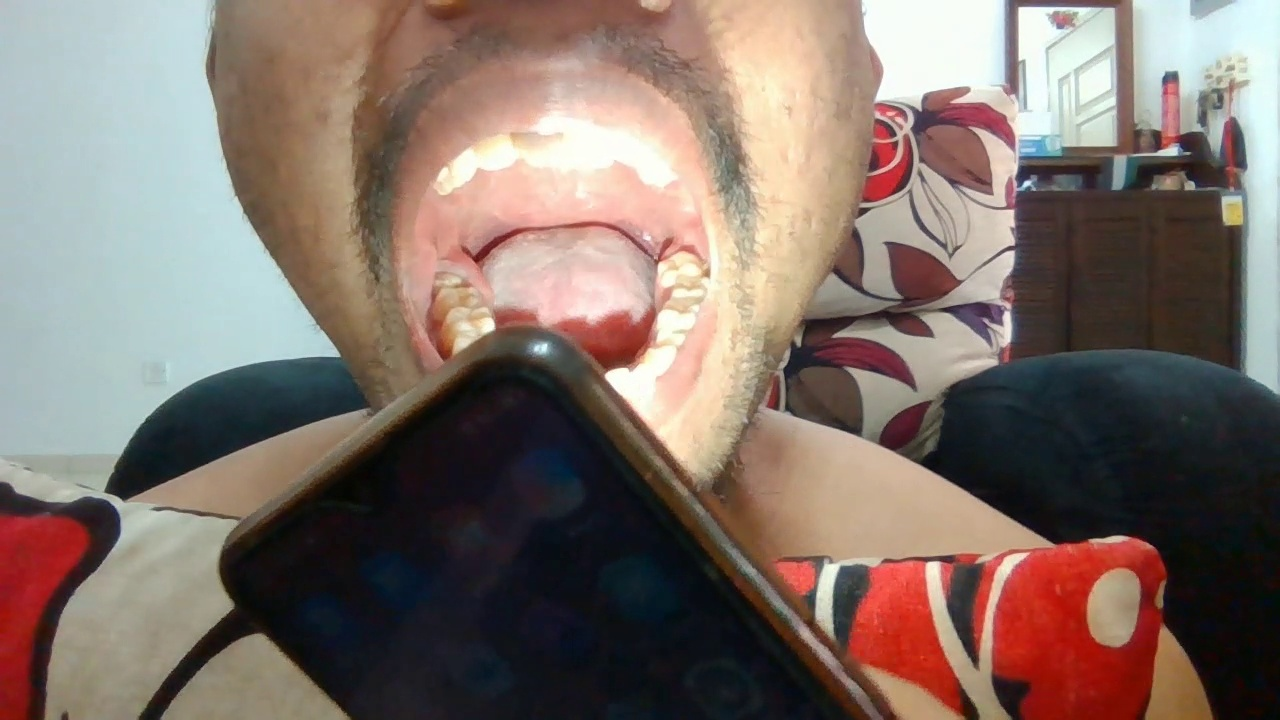1st Molar: (438, 306, 495, 335), (656, 298, 702, 323)
1st Premolar: (639, 344, 677, 365)
2nd Molar: (433, 287, 484, 306), (671, 276, 712, 297)
2nd Premolar: (647, 324, 687, 344)
3rd Molar: (656, 249, 703, 284), (433, 269, 470, 288)
Canine: (448, 147, 479, 185)
Central Incisor: (512, 132, 566, 158)
Lateral Incisor: (477, 136, 517, 170)
